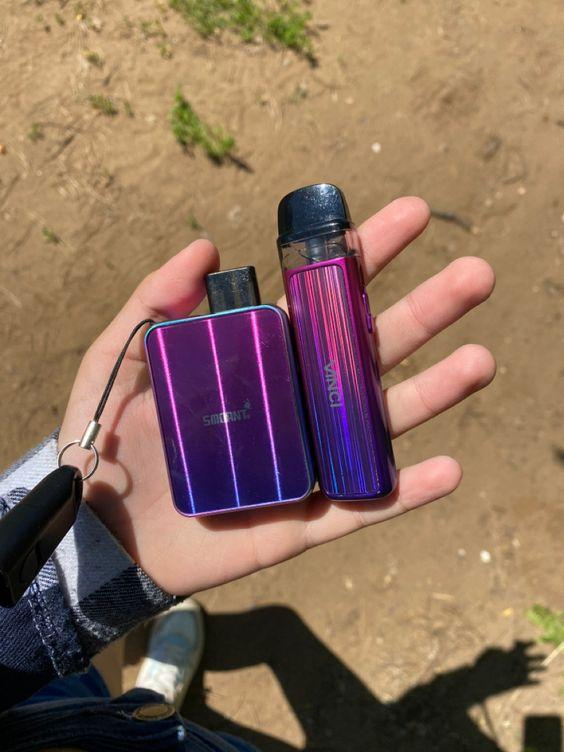Vape: (145, 266, 315, 516), (278, 183, 396, 501)
